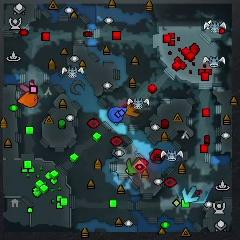Other: (134, 160, 147, 174)
p1: (108, 106, 127, 122)
p5: (18, 90, 38, 108)
x1: (19, 81, 37, 92)
x3: (182, 186, 199, 203)
x4: (126, 158, 140, 173)
x5: (126, 103, 139, 117)
